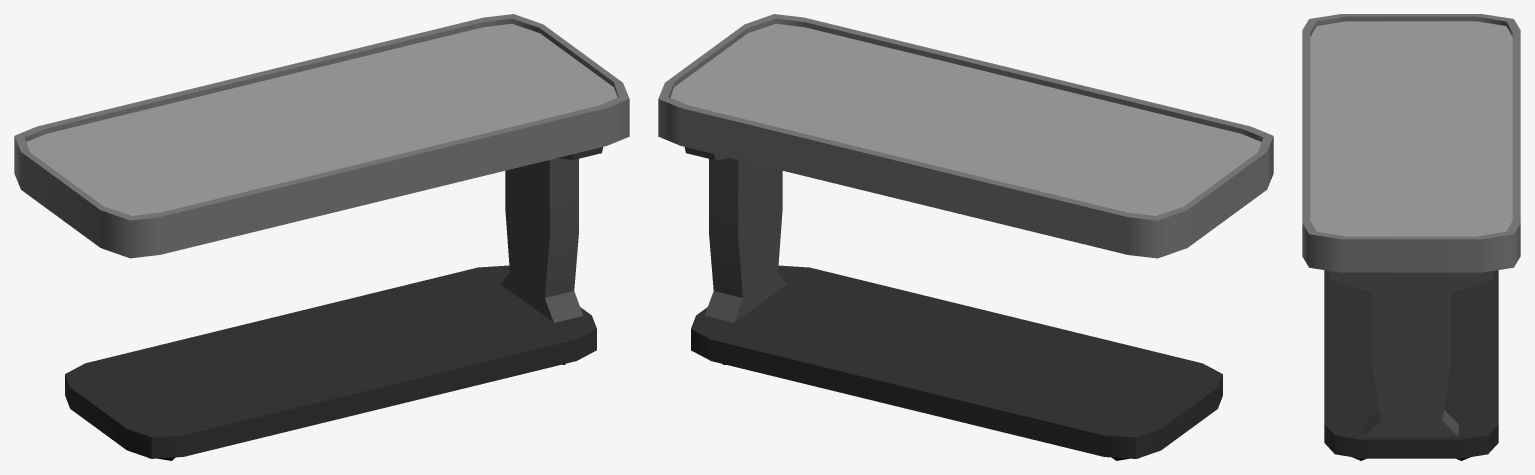
File: Bedside Table 01.fbx
3 views of the same model, side by side, from view 1: azimuth 30°, elevation 25°; view 2: azimuth 150°, elevation 25°; view 3: azimuth 270°, elevation 25° (orthographic). The views are drawn at different scales.
Parts seen in each view (by area): view 1: Bedside_Table_01; view 2: Bedside_Table_01; view 3: Bedside_Table_01.
Boxes of the visible parts, x1,y1,x2,y2 form: Bedside_Table_01: (14,14,629,460); Bedside_Table_01: (658,14,1273,460); Bedside_Table_01: (1302,14,1520,460).
Size of the model in its own units: 144 by 72.31 by 59.19.
